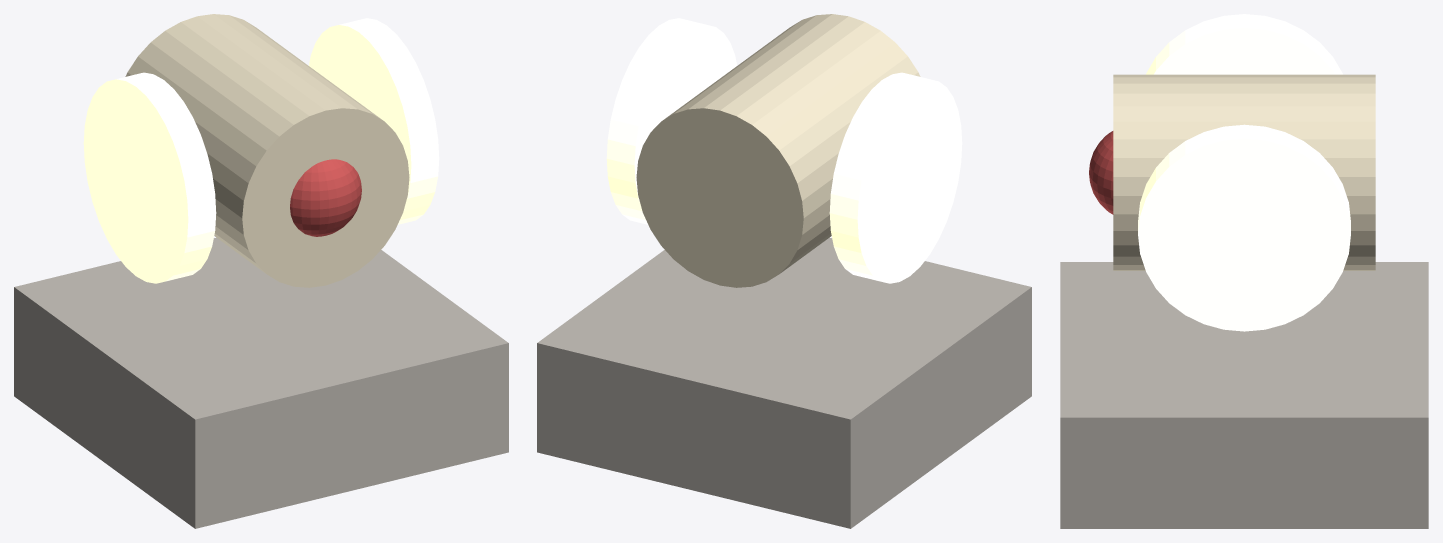
The model's file is LoreArtifactScroll.fbx.
The picture shows the model from 3 angles, left to right: view 1: azimuth 30°, elevation 25°; view 2: azimuth 150°, elevation 25°; view 3: azimuth 270°, elevation 25°; orthographic projection.
Visible parts, largest first — view 1: LoreArtifactScroll; view 2: LoreArtifactScroll; view 3: LoreArtifactScroll.
Part boxes in pixels (box(x1,y1,x2,y2)): LoreArtifactScroll: box(14, 14, 508, 528); LoreArtifactScroll: box(537, 14, 1031, 528); LoreArtifactScroll: box(1060, 14, 1428, 528).
Size of the model in its own units: 45 by 50.5 by 45.
